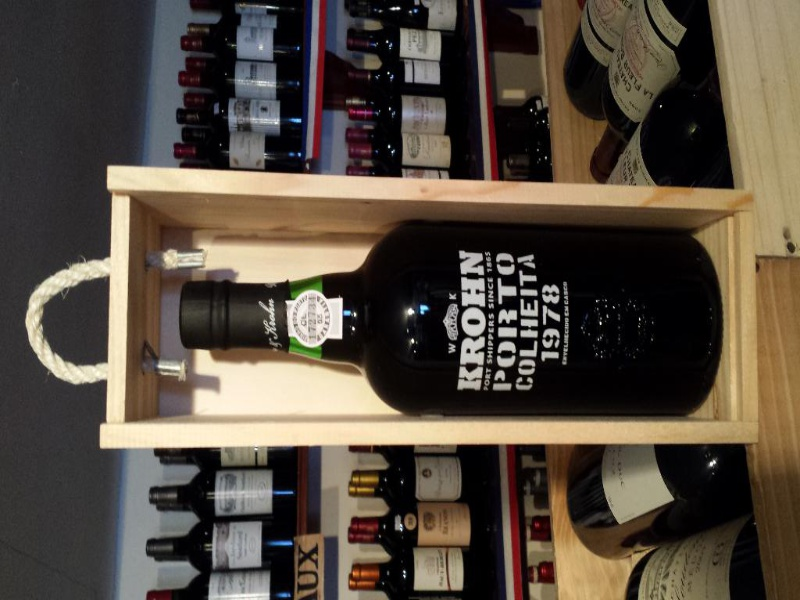wine: (155, 206, 739, 424), (143, 1, 743, 198), (138, 440, 766, 600)
